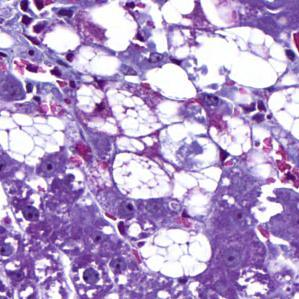ballooning: (4, 107, 67, 169), (140, 227, 212, 280), (110, 152, 172, 202), (104, 87, 163, 138)
